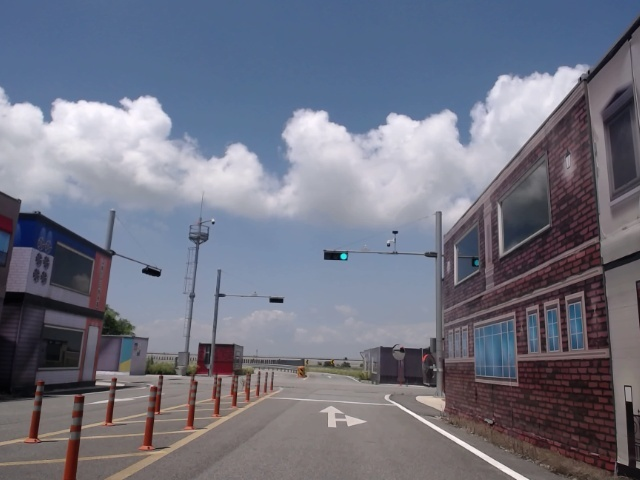green_3: (325, 251, 347, 260)
